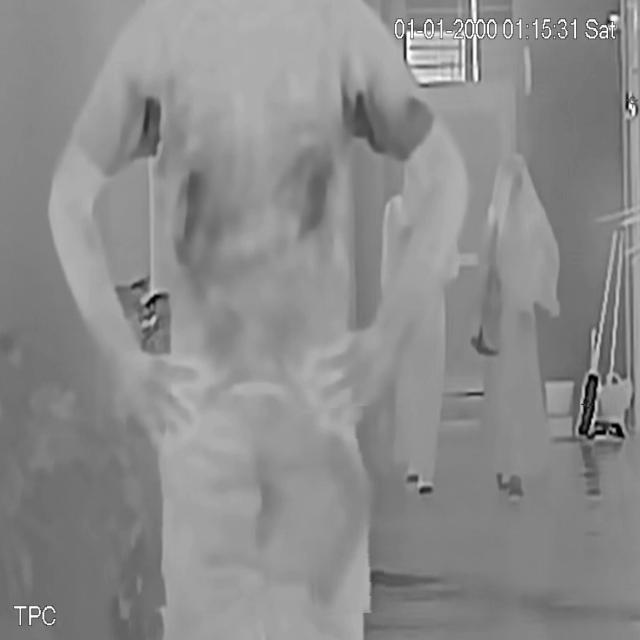Weapon: (304, 406, 382, 615)
